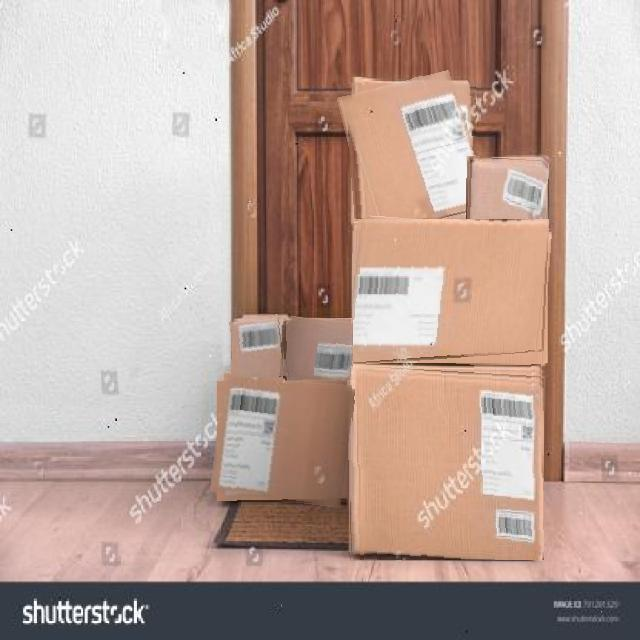BoxFace: (348, 365, 544, 560), (352, 219, 550, 366), (344, 76, 476, 230), (214, 377, 352, 505), (466, 156, 548, 229), (284, 318, 353, 382), (231, 316, 286, 382)
